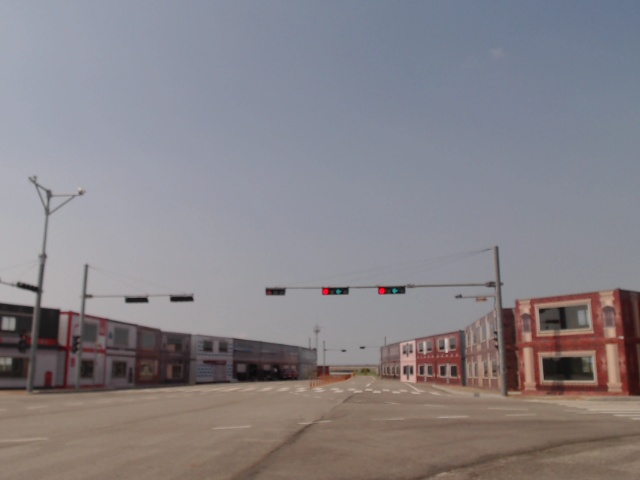left_green_4: (379, 287, 406, 294), (322, 288, 348, 294)
